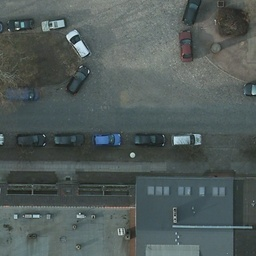car: (68, 65, 93, 93), (67, 30, 91, 59), (177, 32, 197, 62), (15, 131, 47, 149), (52, 132, 83, 149), (182, 0, 202, 26), (135, 132, 166, 148), (89, 133, 122, 148), (173, 131, 203, 147), (8, 17, 35, 34), (42, 18, 65, 32), (0, 133, 7, 145), (0, 22, 5, 37), (0, 87, 2, 102)
van: (8, 77, 42, 111)
